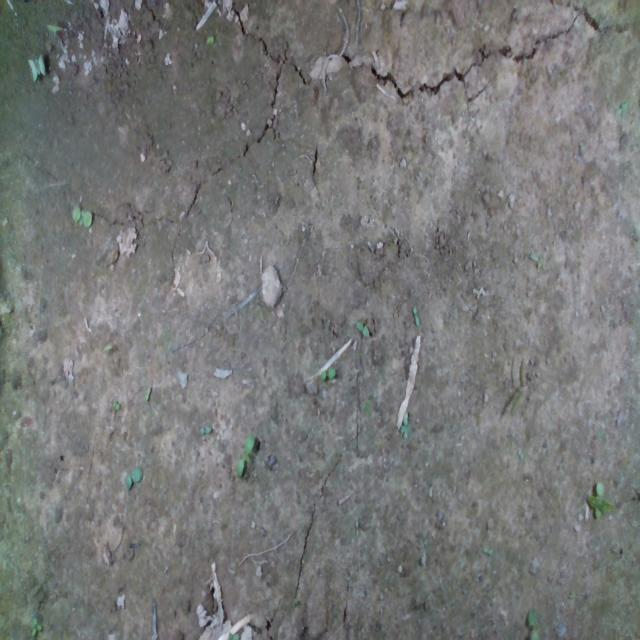weed: (509, 353, 527, 415), (236, 433, 256, 478), (70, 204, 92, 227), (124, 466, 144, 490), (318, 364, 336, 380), (30, 615, 42, 638), (355, 319, 369, 337), (411, 303, 420, 326), (197, 424, 212, 436), (144, 382, 151, 402), (112, 398, 120, 410)
